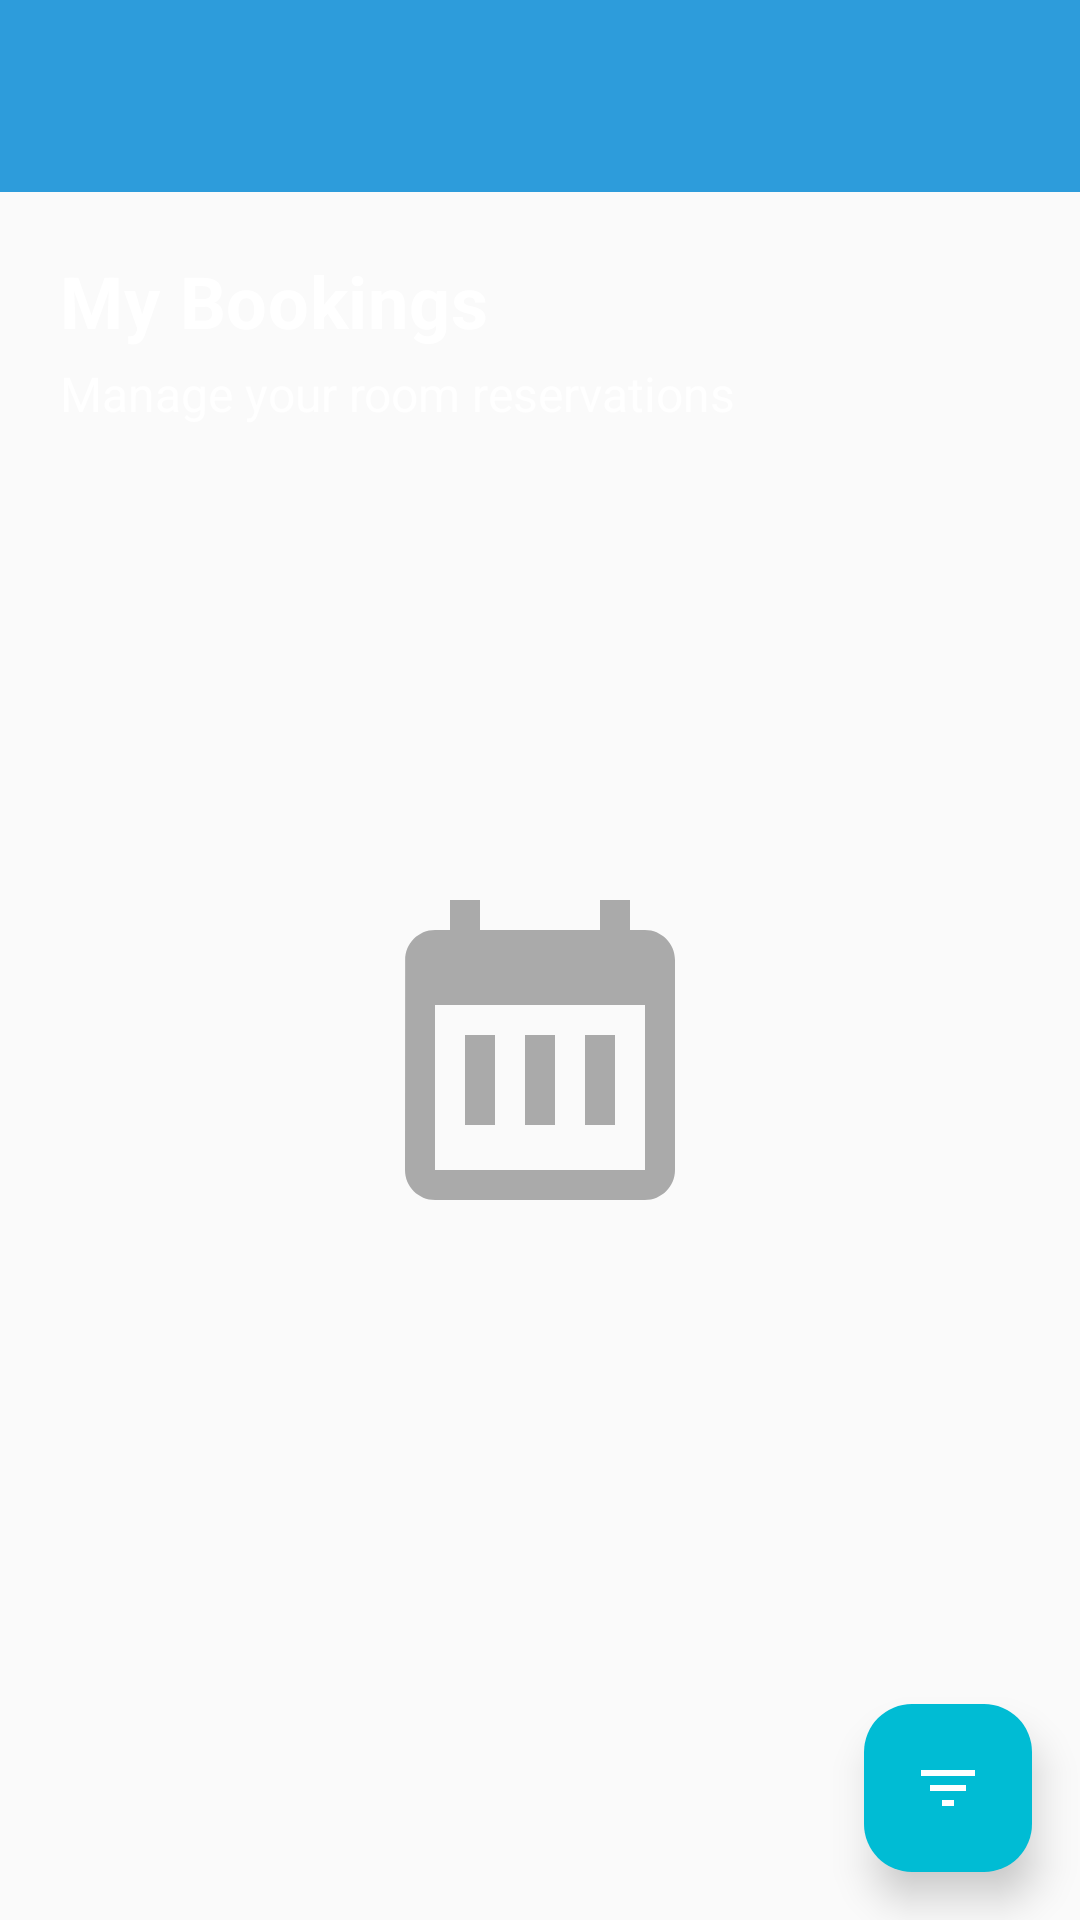

Point at icon controls on the screen. Image size 1080×1920, points as point (x, y).
booking empty: point (540, 1050)
Filter bookings: point (948, 1788)
